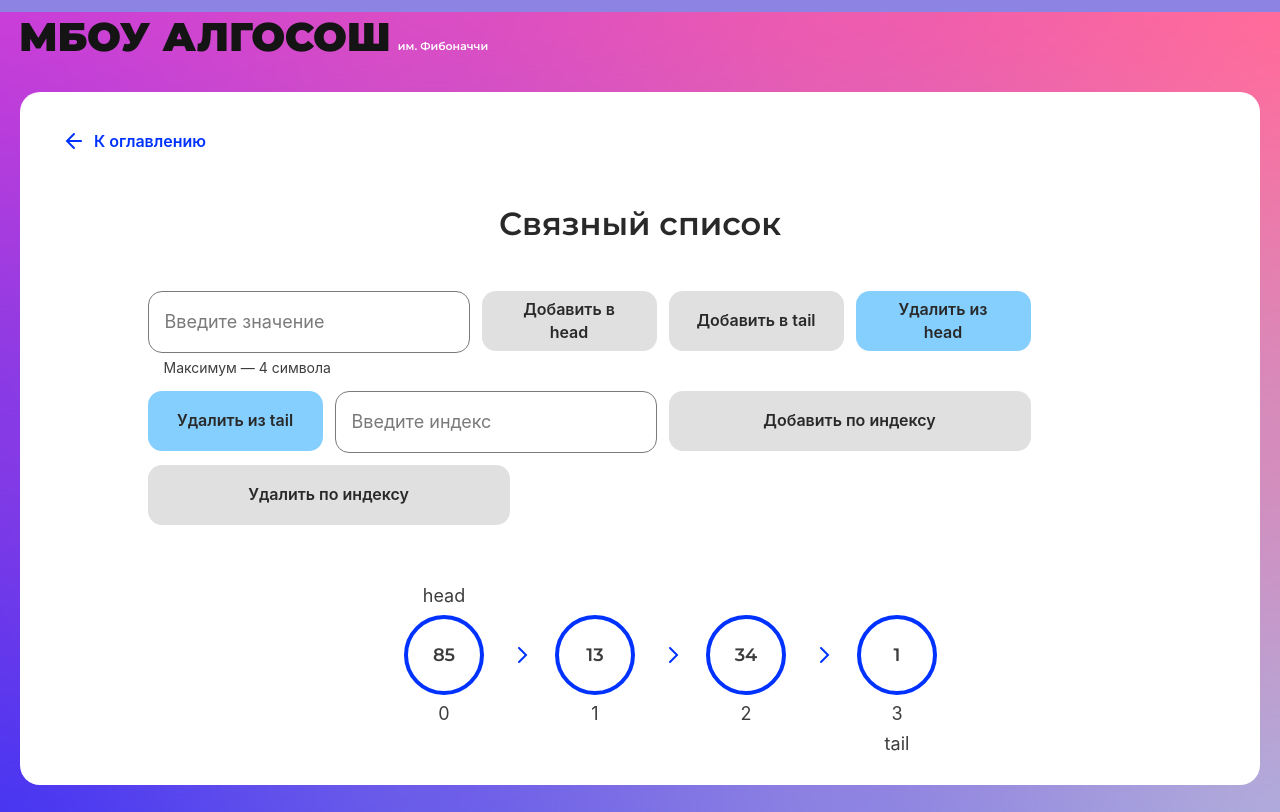
Test: List Work Is Correct › Correctness of deleting an element from tail
Expected: the element with test id "circle" reads "1", [857,615,937,695]
Expected: the number of elements with test id "circle" is 4, [404,615,484,695]; [555,615,635,695]; [706,615,786,695]; [857,615,937,695]
What coordinates should you click on to do the following:
click the button with test id "delTailBtn"
I would click on:
 (236, 421)
Its box is [148,391,323,451].
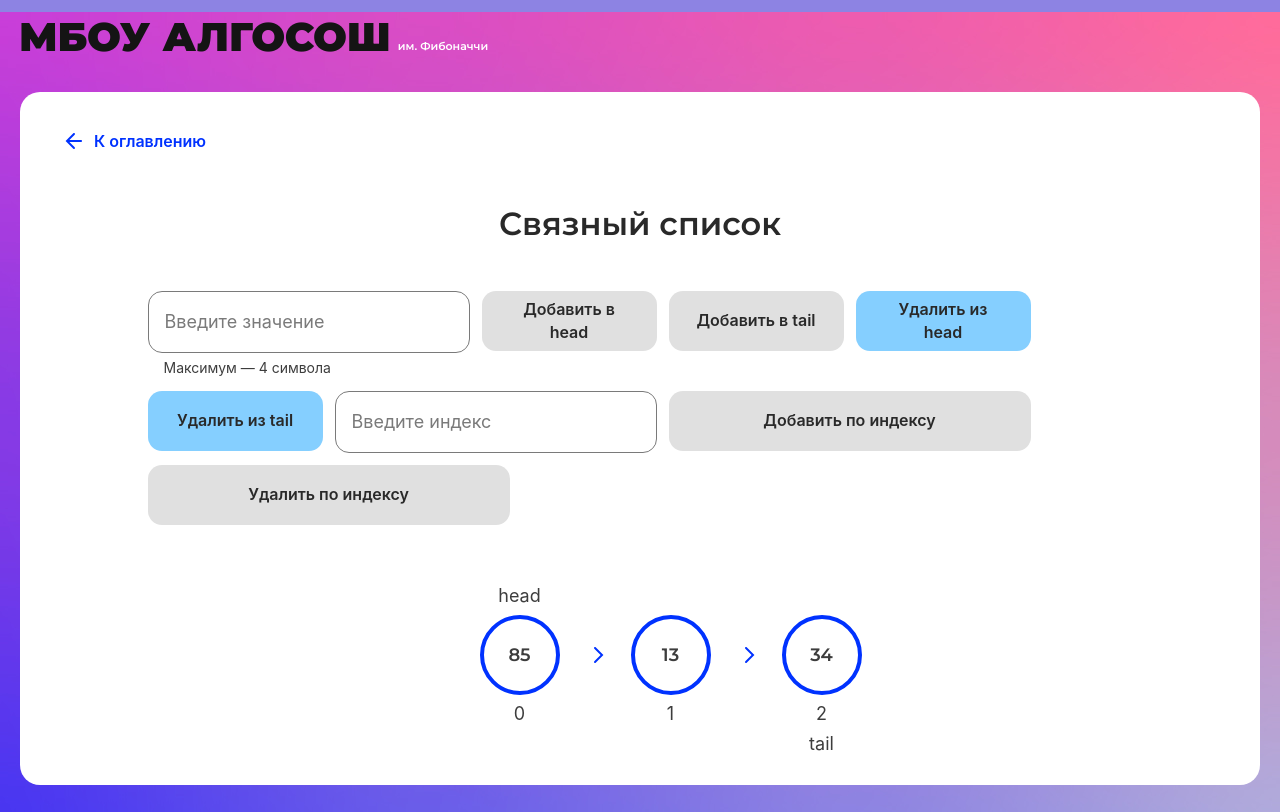
Expected: the element with test id "circle" reads "34", [782,615,862,695]
Expected: the number of elements with test id "circle" is 3, [480,615,560,695]; [630,615,710,695]; [782,615,862,695]
